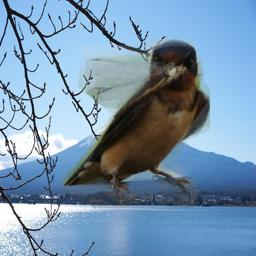Swallow: (62, 39, 210, 208)
